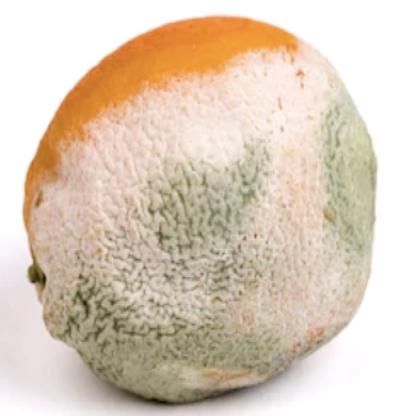rotten: (19, 16, 378, 411)
